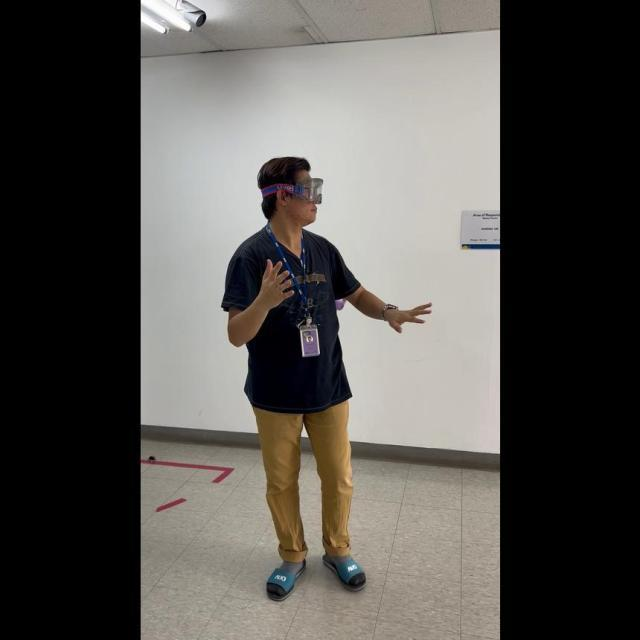bare_hand: (245, 253, 293, 312), (380, 296, 432, 333)
